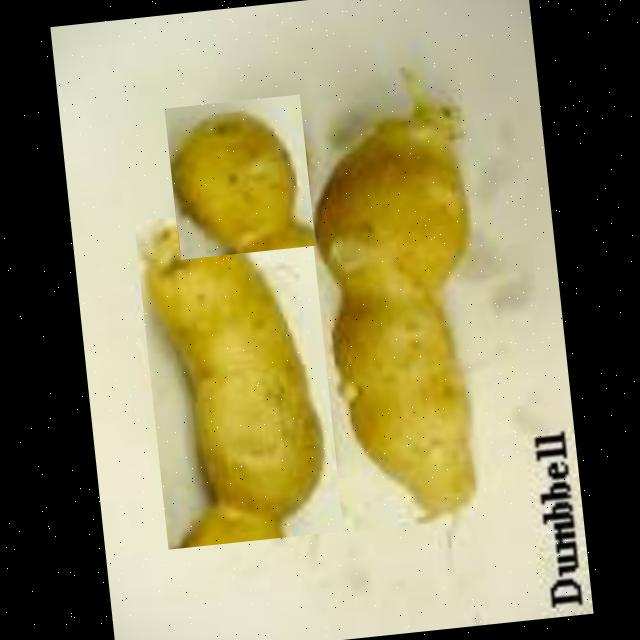Defected potato: (298, 57, 515, 525), (132, 202, 342, 550), (163, 94, 314, 259)
